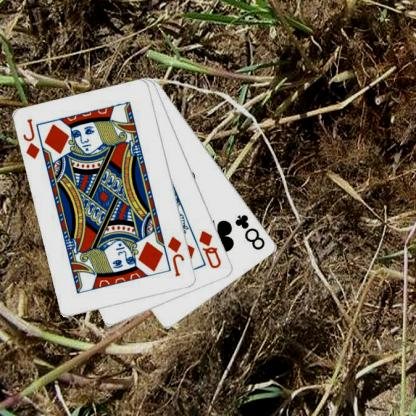8C: (232, 211, 267, 252)
JD: (20, 116, 42, 161), (165, 233, 186, 278)
QD: (196, 228, 223, 270)
